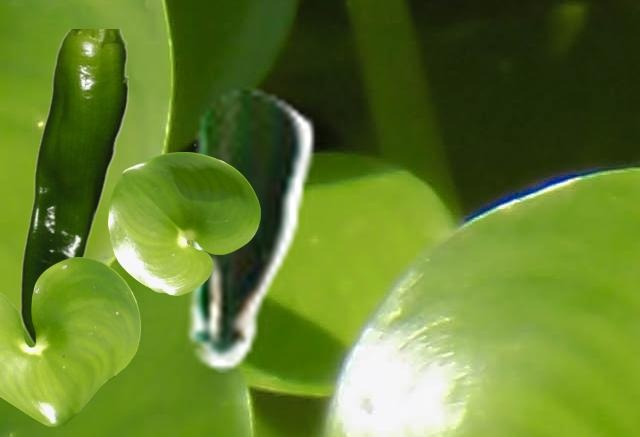green_chili: (180, 85, 316, 371), (19, 29, 127, 345)
